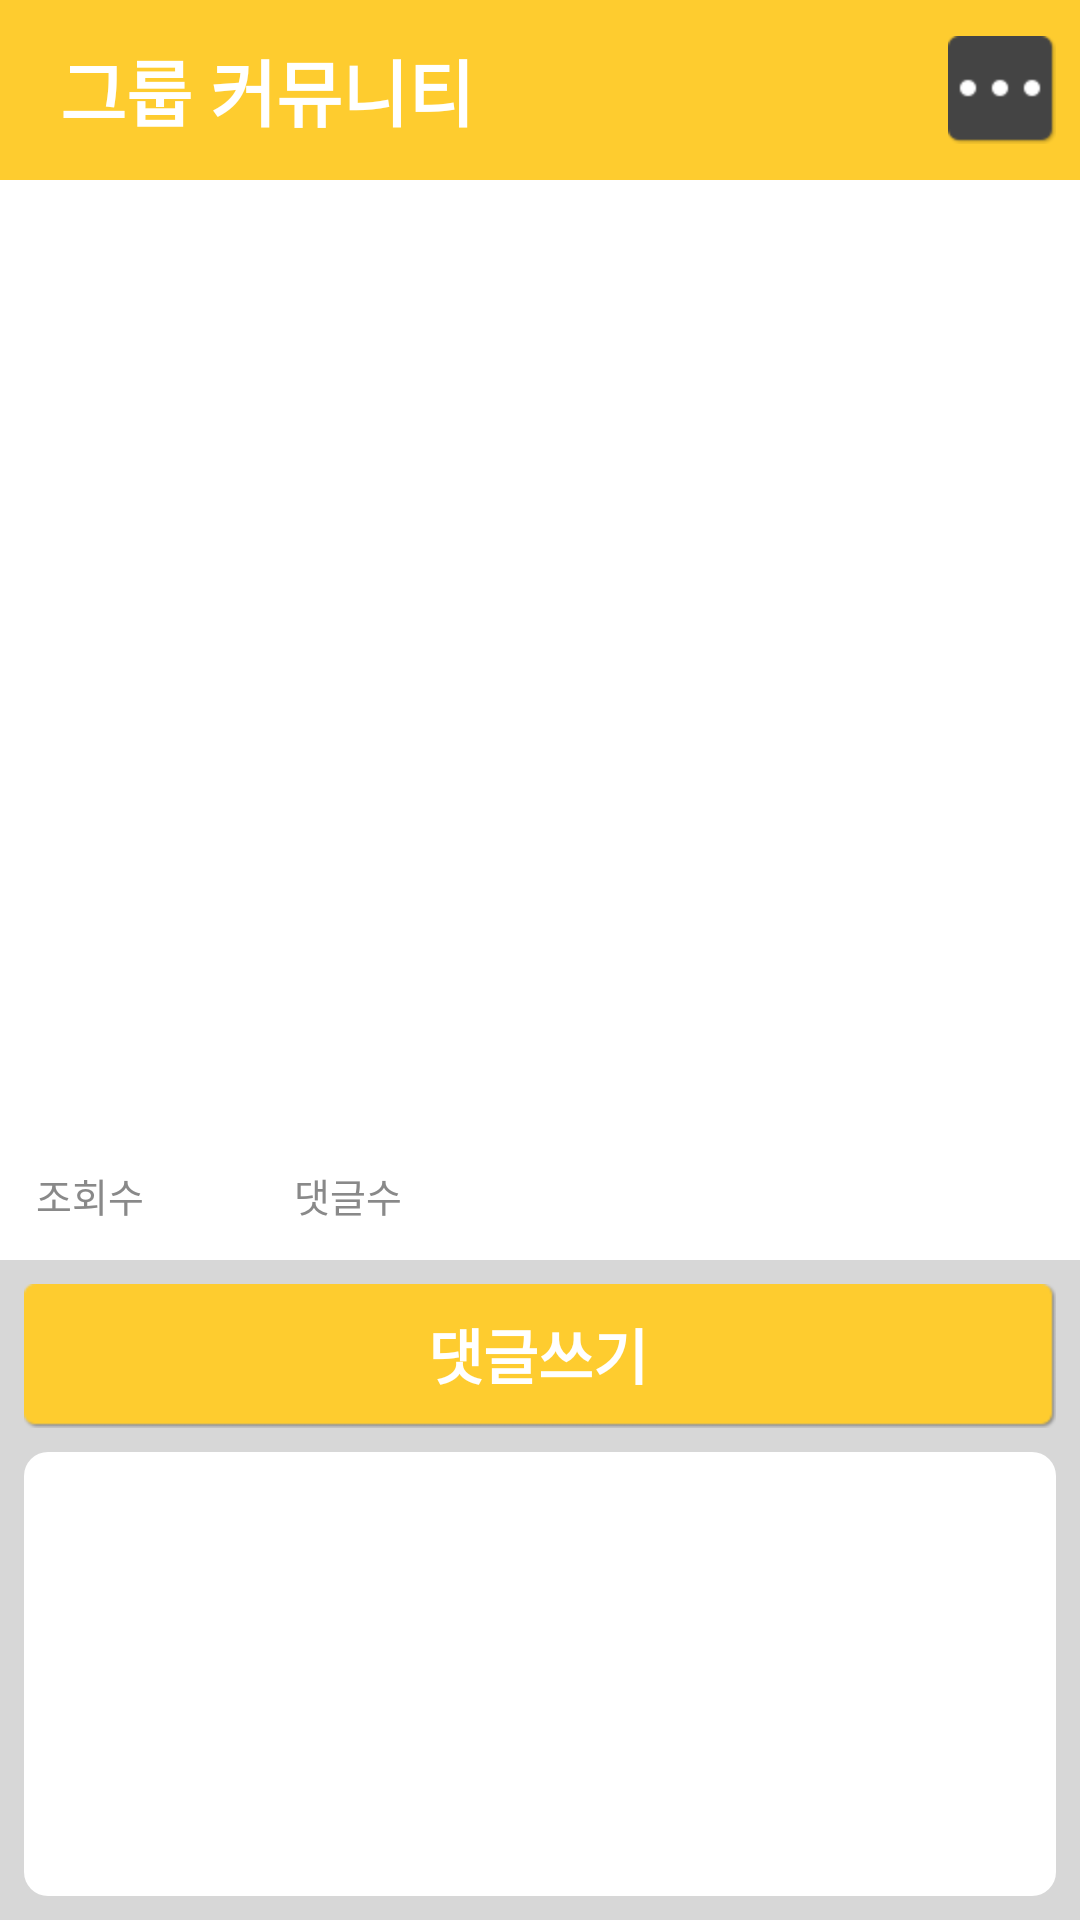

Icons on this 1080 × 1920 Android screen, each with its box as (x1, y1, x2, y2):
option more: (948, 36, 1054, 142)
